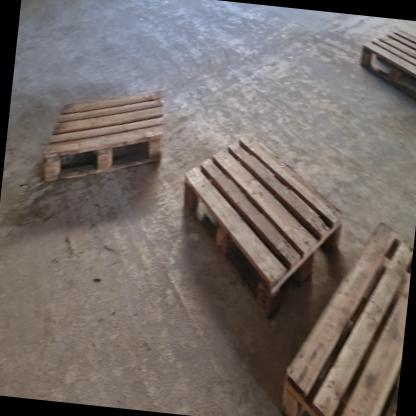BoxFace: (181, 126, 345, 323), (281, 219, 413, 416), (40, 89, 165, 187), (358, 24, 416, 103)
